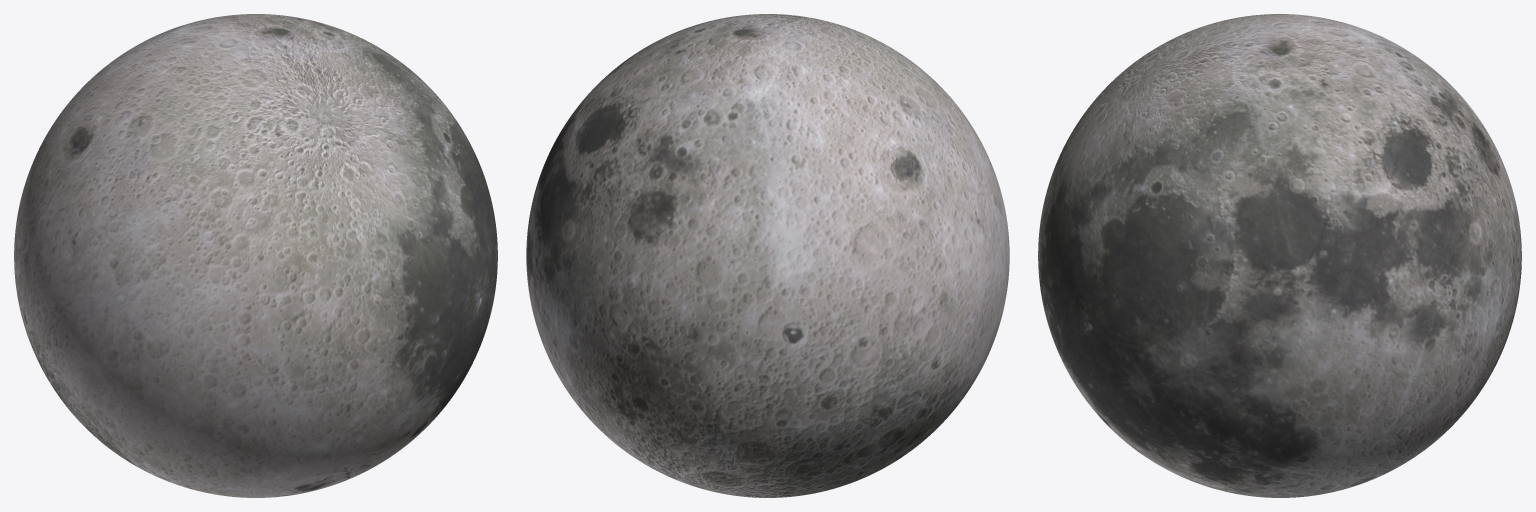
Rendered from fixedEarth.glb.
3 views of the same model, side by side, from view 1: azimuth 30°, elevation 25°; view 2: azimuth 150°, elevation 25°; view 3: azimuth 270°, elevation 25° (orthographic).
Parts seen in each view (by area): view 1: Sphere_Material.001_0.003, Sphere_Material.001_0.002, Sphere, Sphere_Material.001_0.001, Sphere_Material.001_0.004; view 2: Sphere, Sphere_Material.001_0.001, Sphere_Material.001_0.002, Sphere_Material.001_0.003; view 3: Sphere_Material.001_0.001, Sphere_Material.001_0.002, Sphere_Material.001_0.003, Sphere, Sphere_Material.001_0.004.
Boxes of the visible parts, x1,y1,x2,y2 form: Sphere_Material.001_0.003: [36, 78, 480, 497]; Sphere_Material.001_0.002: [49, 19, 497, 477]; Sphere: [14, 54, 322, 363]; Sphere_Material.001_0.001: [88, 14, 322, 118]; Sphere_Material.001_0.004: [309, 40, 472, 466]; Sphere: [533, 22, 986, 491]; Sphere_Material.001_0.001: [526, 17, 844, 497]; Sphere_Material.001_0.002: [558, 14, 1009, 493]; Sphere_Material.001_0.003: [709, 41, 1007, 491]; Sphere_Material.001_0.001: [1149, 16, 1508, 497]; Sphere_Material.001_0.002: [1040, 43, 1421, 445]; Sphere_Material.001_0.003: [1038, 48, 1303, 494]; Sphere: [1149, 14, 1521, 457]; Sphere_Material.001_0.004: [1071, 56, 1257, 445].
Size of the model in its own units: 2 by 2 by 2.
Materials: 1 (1 with a texture image).
